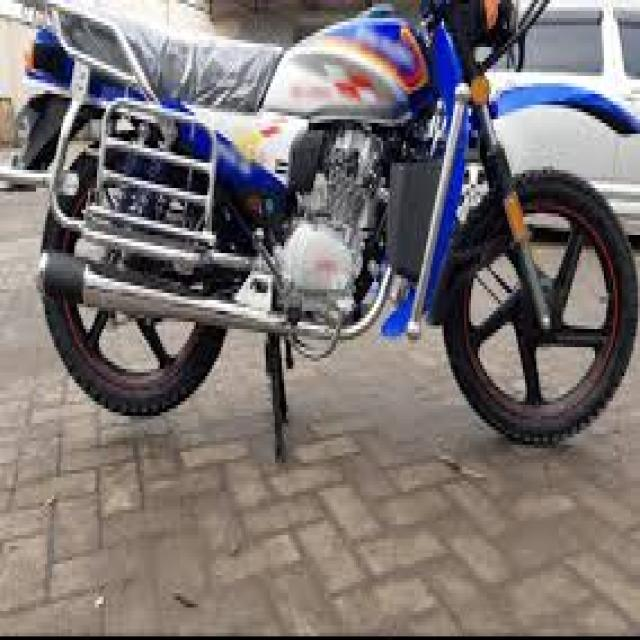bodaboda: (11, 0, 640, 510)
